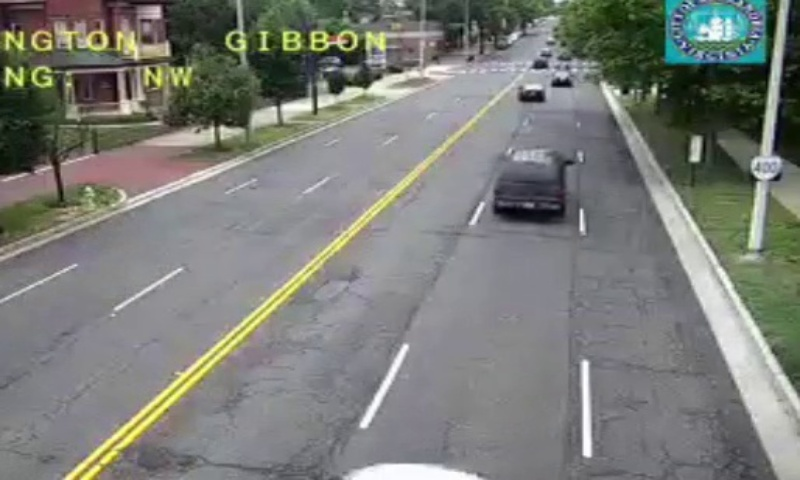car: (493, 148, 564, 216), (518, 83, 544, 100)
